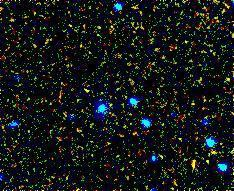star: (177, 147, 207, 177)
